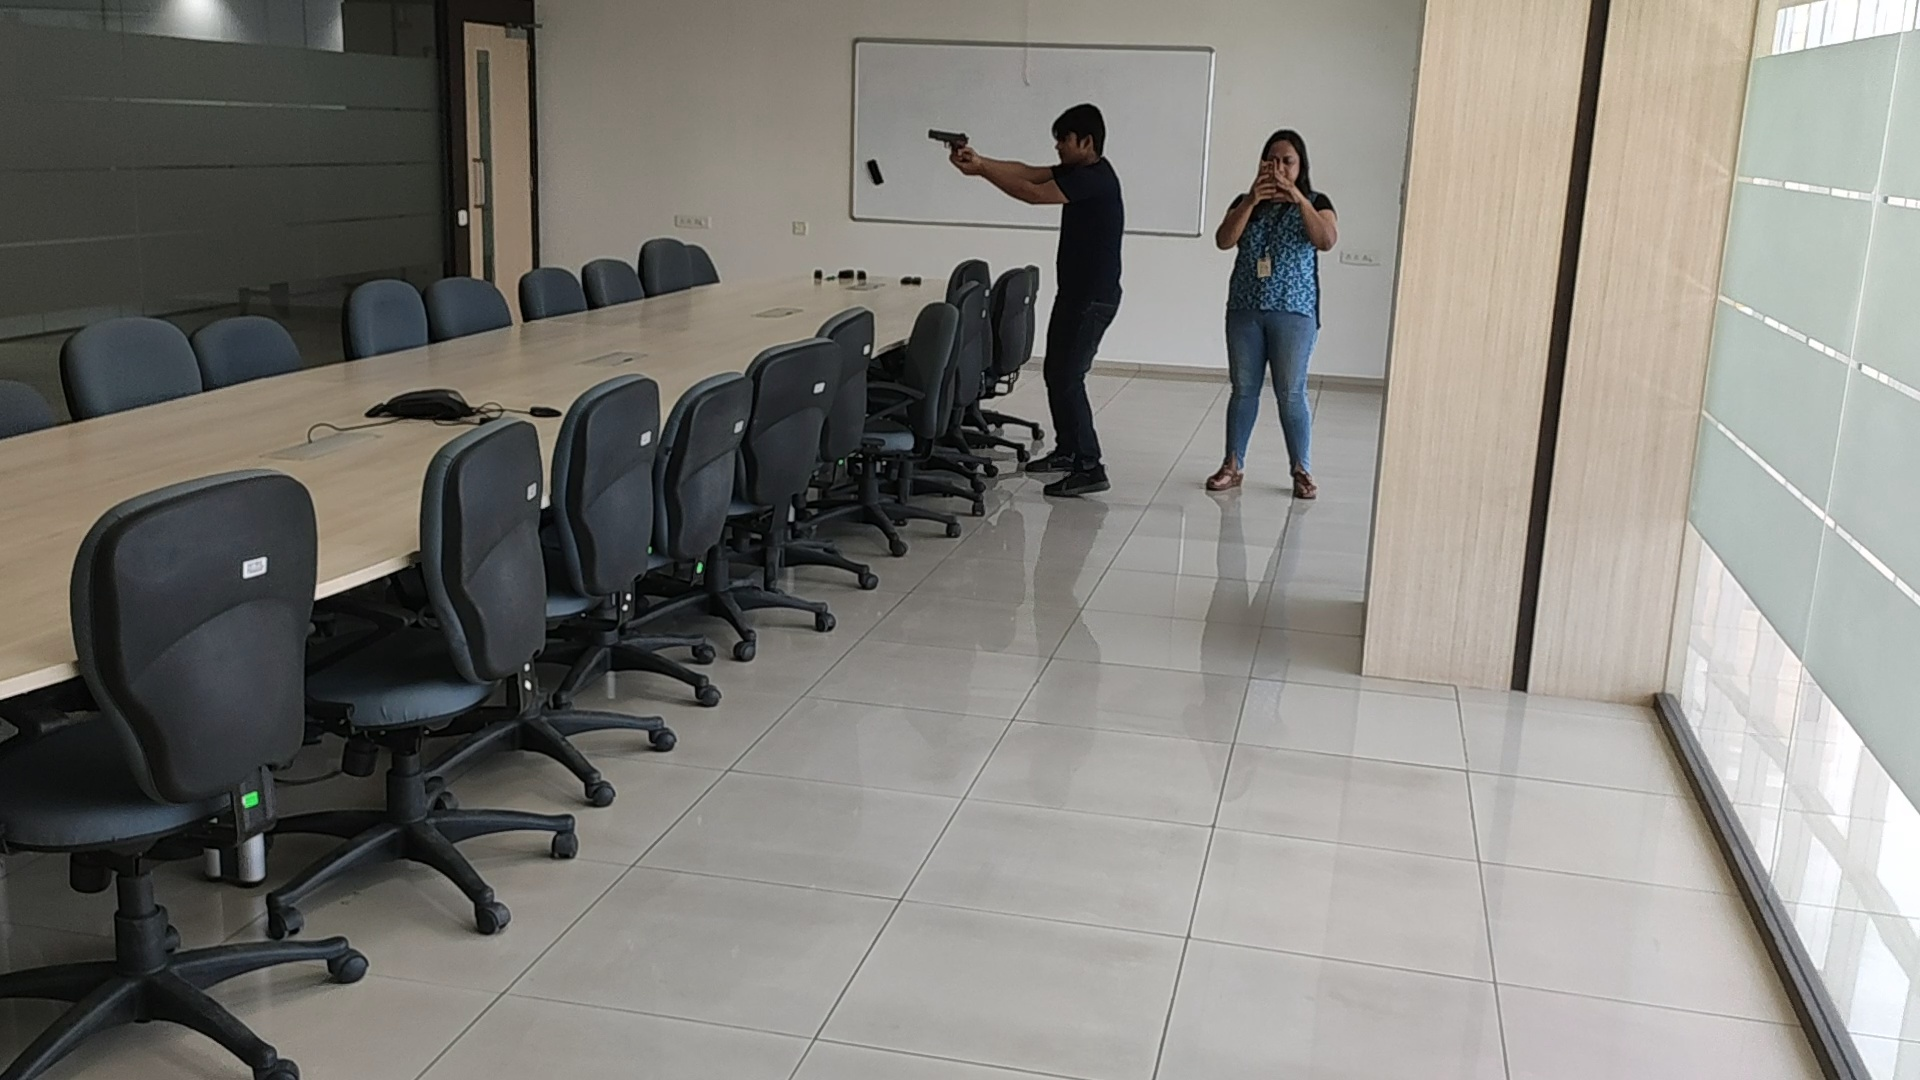gun: (924, 127, 971, 158)
